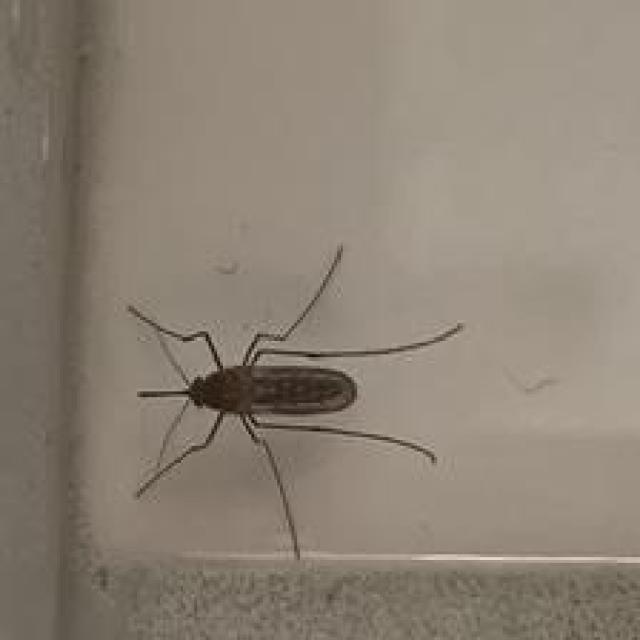Culex: (124, 242, 464, 562)
